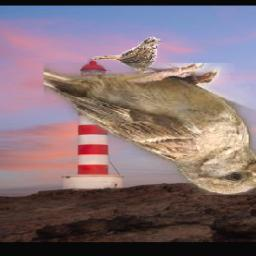Sparrow: (44, 64, 256, 196), (93, 36, 163, 80)
